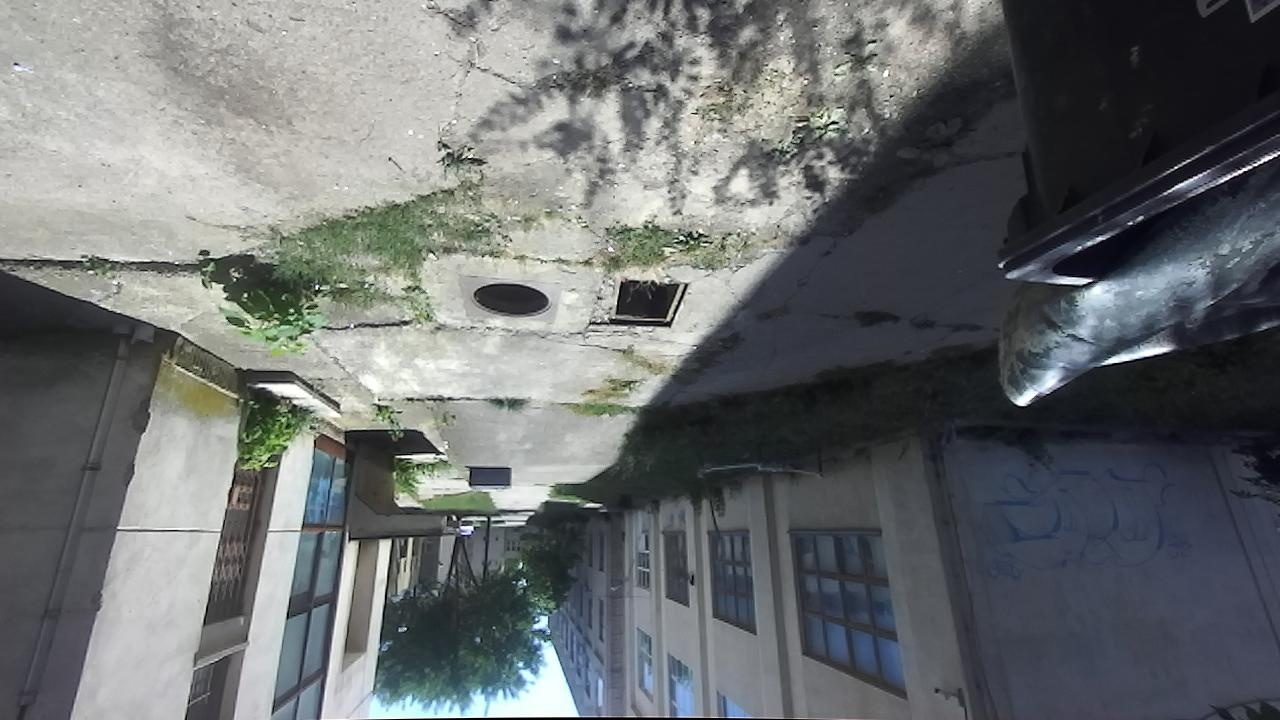drain: (590, 276, 691, 325), (467, 283, 556, 318)
